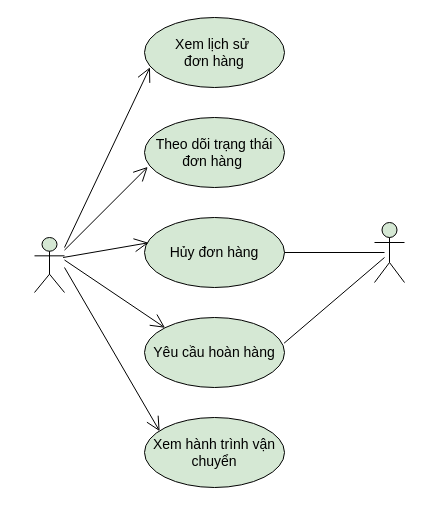
The diagram is 447 pixels wide and 505 high, and some of its shapes have lost their labels. The shapes that lost their labels are listed below. From the top down, each one's box as (x1, y1, x2, y2) in pixels, then its label:
(34, 236, 64, 292): Người dùng
(374, 222, 404, 282): Hệ thống email
